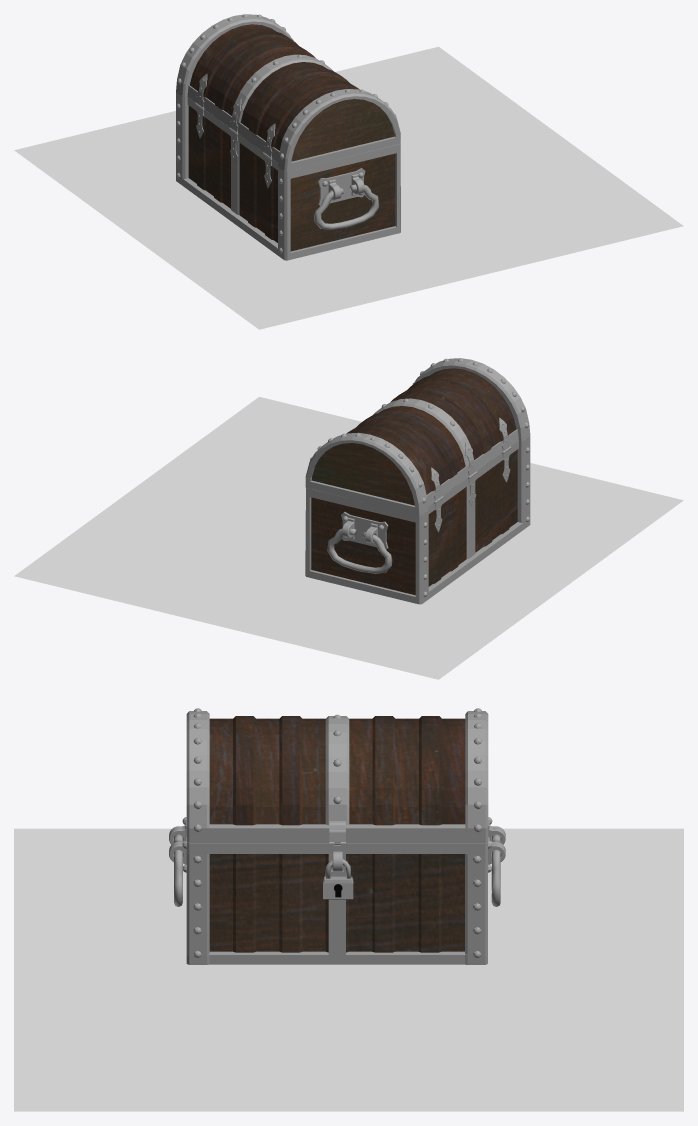
File: Chest V4.fbx
The picture shows the model from 3 angles, top to bottom: view 1: azimuth 30°, elevation 25°; view 2: azimuth 150°, elevation 25°; view 3: azimuth 270°, elevation 25°; orthographic projection. The views are drawn at different scales.
Parts seen in each view (by area): view 1: Plane, Lid, Chest, Handle Left; view 2: Plane, Lid, Chest, Handle Right; view 3: Plane, Lid, Chest, Lock Body.
Part boxes in pixels (x1,y1,x2,y2): Plane: (14,46,683,329); Lid: (176,14,400,171); Chest: (176,92,400,260); Handle Left: (314,184,378,229); Plane: (14,396,683,679); Lid: (305,358,530,515); Chest: (305,436,530,604); Handle Right: (327,528,392,573); Plane: (14,828,683,1111); Lid: (186,708,488,844); Chest: (169,817,505,964); Lock Body: (323,876,353,899).
Size of the model in its own units: 200 by 68.83 by 200.
